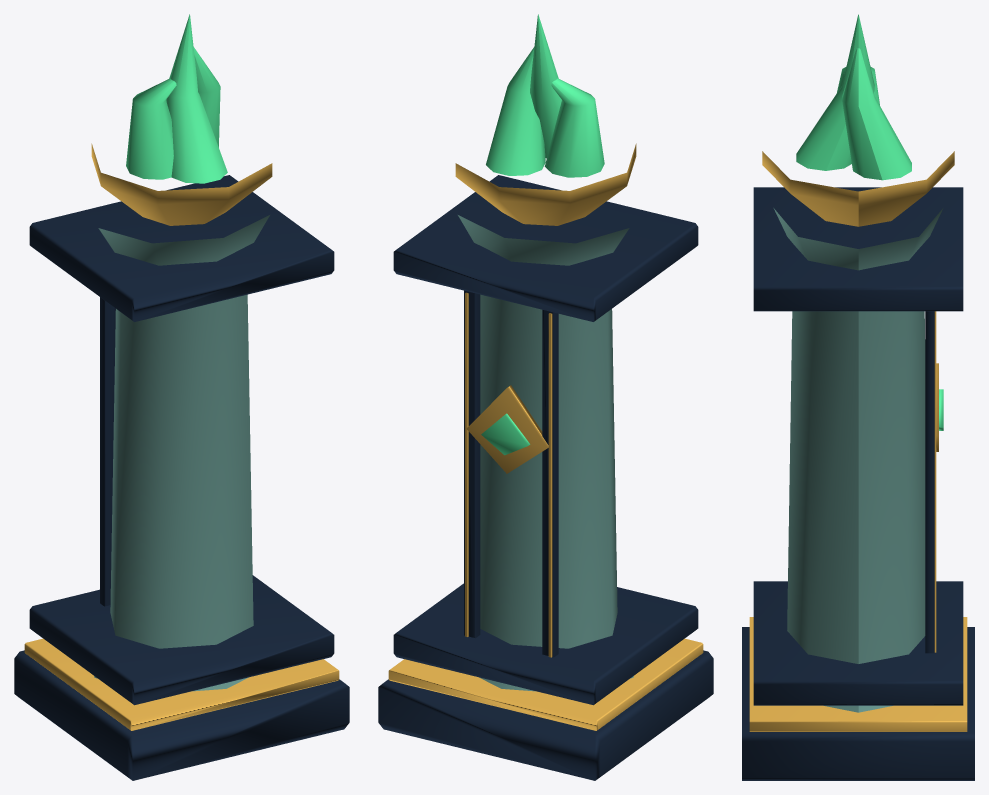
File: prop_0_3.glb
3 renders of one model, left to right at view 1: azimuth 30°, elevation 25°; view 2: azimuth 150°, elevation 25°; view 3: azimuth 270°, elevation 25°, orthographic. The views are drawn at different scales.
Visible parts, largest first — view 1: CarvedPillar, Cornice (×2), Plinth, SpectralFlame (×3), PlinthGold, Brazier, Fluting; view 2: CarvedPillar, Cornice (×2), Plinth, SpectralFlame (×3), Fluting (×2), PlinthGold, Brazier, GiltFluting (×2), CarvedEye, EyeInset; view 3: CarvedPillar, Cornice (×2), Plinth, SpectralFlame (×2), PlinthGold, Brazier, Fluting, GiltFluting.
Part boxes in pixels (box(x1,y1,x2,y2)): CarvedPillar: box(94, 215, 269, 691); Cornice (×2): box(29, 175, 334, 705); Plinth: box(14, 650, 349, 780); SpectralFlame (×3): box(126, 14, 227, 183); PlinthGold: box(24, 638, 339, 730); Brazier: box(91, 143, 272, 225); Fluting: box(100, 297, 115, 606); CarvedPillar: box(458, 215, 633, 691); Cornice (×2): box(393, 175, 698, 705); Plinth: box(378, 650, 713, 780); SpectralFlame (×3): box(486, 14, 604, 177); Fluting (×2): box(464, 290, 558, 657); PlinthGold: box(388, 638, 703, 730); Brazier: box(455, 143, 636, 225); GiltFluting (×2): box(465, 292, 552, 657); CarvedEye: box(466, 385, 548, 473); EyeInset: box(481, 413, 530, 455); CarvedPillar: box(773, 208, 943, 712); Cornice (×2): box(753, 187, 963, 705); Plinth: box(742, 627, 974, 780); SpectralFlame (×2): box(796, 14, 911, 180); PlinthGold: box(749, 617, 967, 731); Brazier: box(762, 151, 954, 226); Fluting: box(925, 311, 934, 653); GiltFluting: box(934, 311, 936, 652).
Bounding box in the file's own units: 1.7 × 5.1 × 1.5.
